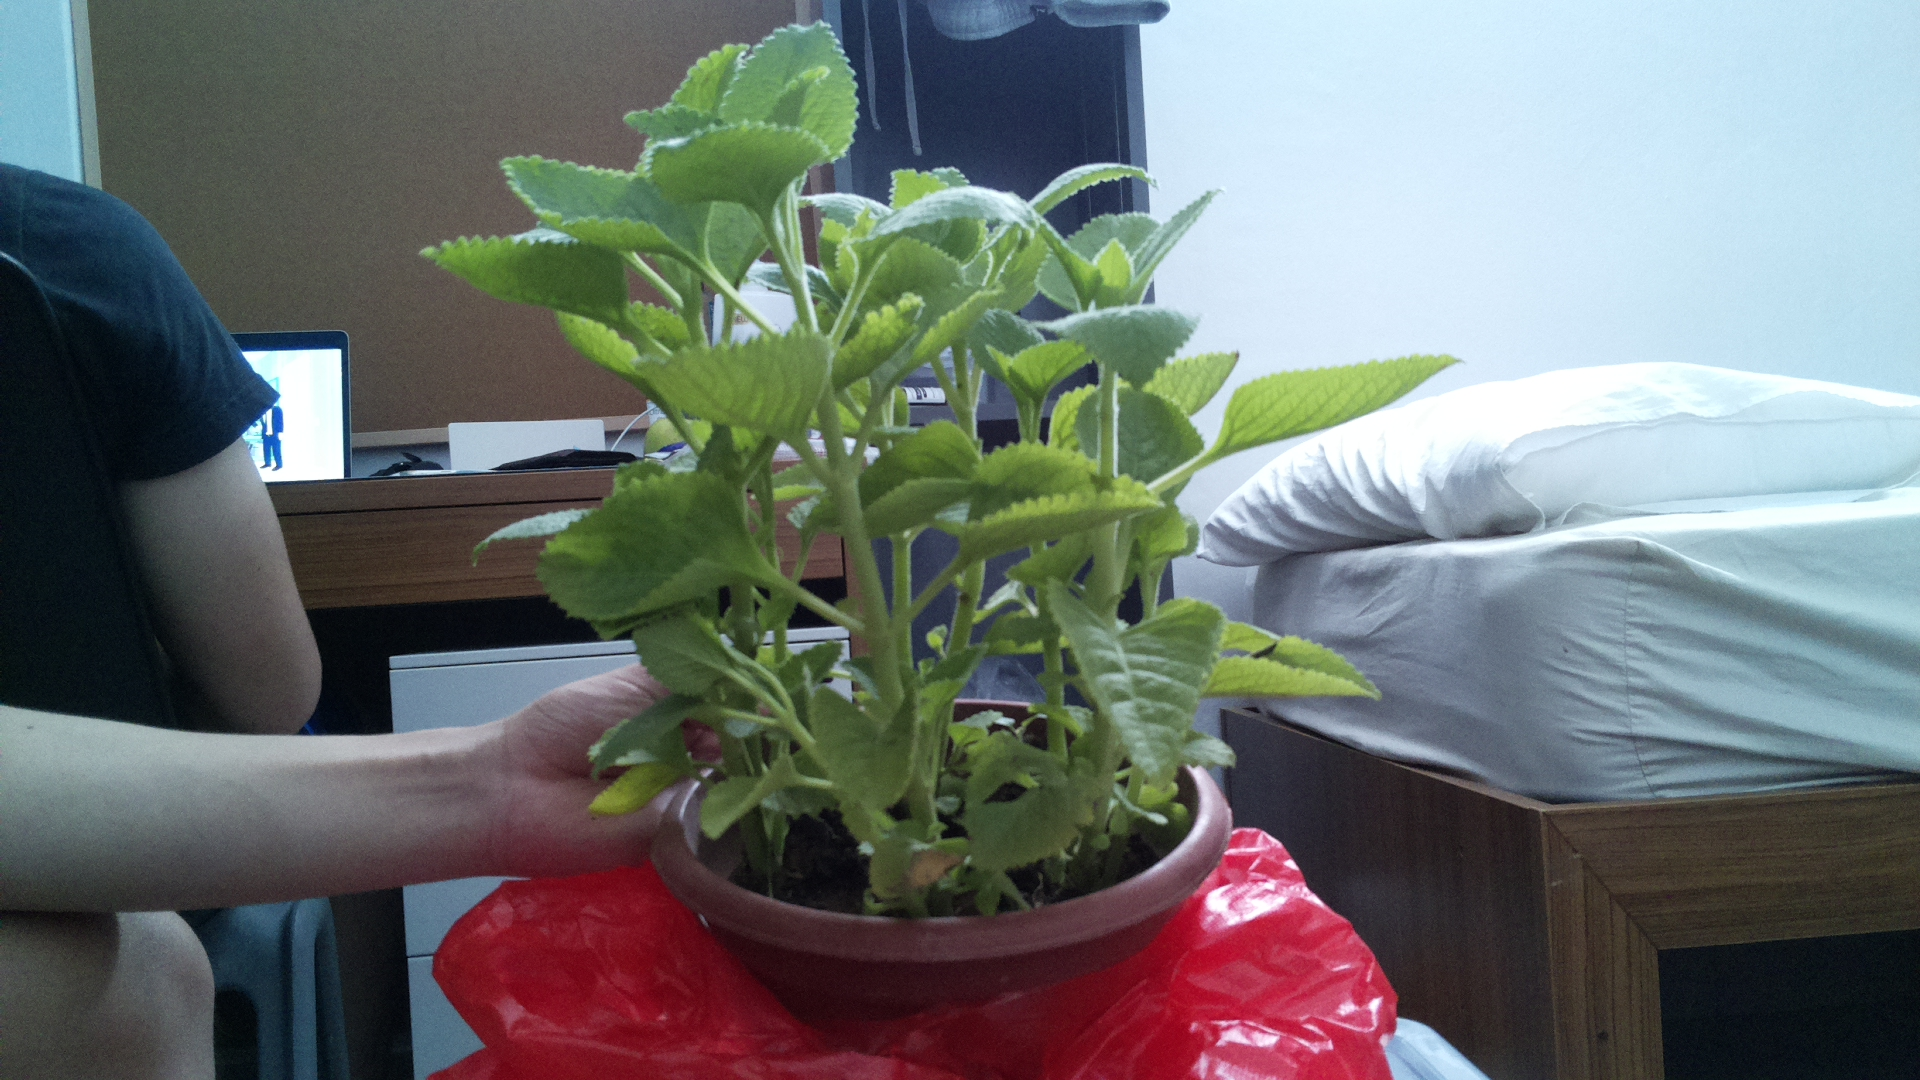leaf: (1047, 578, 1232, 799), (535, 463, 757, 622), (1220, 339, 1468, 462), (498, 138, 720, 270), (626, 323, 823, 443), (732, 18, 866, 181), (976, 442, 1168, 553), (411, 222, 632, 318), (795, 666, 931, 814), (1211, 603, 1395, 709), (633, 111, 831, 206), (1027, 289, 1204, 392), (852, 415, 984, 526), (1025, 164, 1174, 215)
